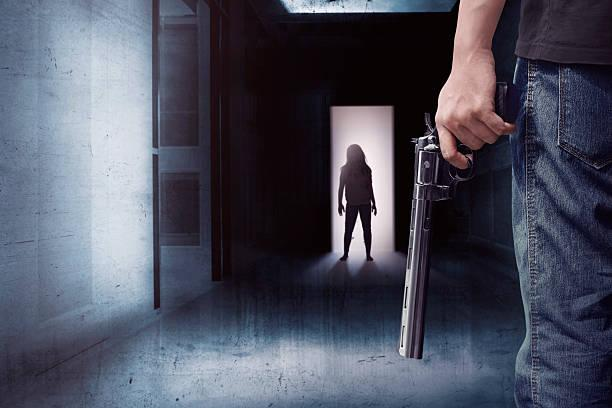weapon: (396, 79, 521, 357)
